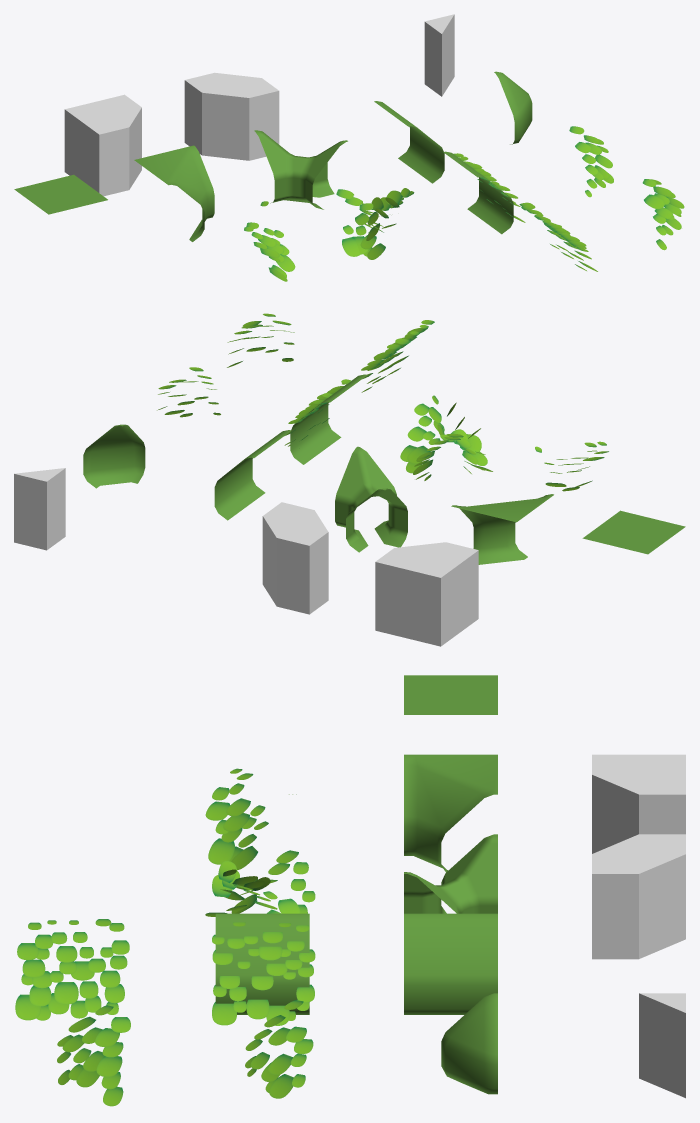
File: HedgeSlopes.fbx
3 renders of one model, top to bottom at view 1: azimuth 30°, elevation 25°; view 2: azimuth 150°, elevation 25°; view 3: azimuth 270°, elevation 25°, orthographic. The views are drawn at different scales.
Visible parts, largest first — view 1: HedgeSlopesTileCol_1010, HedgeSlopesTileCol_1101, HedgeSlopesTile_1010, HedgeSlopesTile_1101, HedgeSlopesDeco_1010_0, HedgeSlopesTileCol_1000, HedgeSlopesTile_1111, HedgeSlopesTile_1001, HedgeSlopesTile_1001.001, HedgeSlopesDeco_1000_1, HedgeSlopesDeco_1101_0, HedgeSlopesDeco_1000_0 (+3 smaller); view 2: HedgeSlopesTileCol_1101, HedgeSlopesTileCol_1010, HedgeSlopesTile_1010, HedgeSlopesTileCol_1000, HedgeSlopesTile_1101, HedgeSlopesTile_1000, HedgeSlopesDeco_1010_0, HedgeSlopesTile_1111, HedgeSlopesTile_1001, HedgeSlopesTile_1001.001, HedgeSlopesDeco_1001_1, HedgeSlopesDeco_1000_1 (+3 smaller); view 3: HedgeSlopesTileCol_1010, HedgeSlopesTile_1001, HedgeSlopesTileCol_1101, HedgeSlopesTile_1101, HedgeSlopesDeco_1001_1, HedgeSlopesTile_1001.001, HedgeSlopesDeco_1001_0, HedgeSlopesTile_1010, HedgeSlopesTileCol_1000, HedgeSlopesTile_1000, HedgeSlopesDeco_1000_1, HedgeSlopesTile_1111 (+3 smaller).
Boxes of the visible parts, x1,y1,x2,y2 form: HedgeSlopesTileCol_1010: [184, 72, 279, 160]; HedgeSlopesTileCol_1101: [64, 94, 141, 196]; HedgeSlopesTile_1010: [254, 130, 347, 209]; HedgeSlopesTile_1101: [134, 145, 214, 241]; HedgeSlopesDeco_1010_0: [336, 188, 414, 259]; HedgeSlopesTileCol_1000: [424, 14, 454, 96]; HedgeSlopesTile_1111: [14, 174, 107, 214]; HedgeSlopesTile_1001: [374, 101, 444, 183]; HedgeSlopesTile_1001.001: [443, 151, 513, 234]; HedgeSlopesDeco_1000_1: [642, 179, 684, 250]; HedgeSlopesDeco_1101_0: [244, 201, 295, 281]; HedgeSlopesDeco_1000_0: [569, 126, 613, 197]; HedgeSlopesTileCol_1101: [375, 542, 478, 646]; HedgeSlopesTileCol_1010: [262, 502, 328, 614]; HedgeSlopesTile_1010: [335, 446, 407, 552]; HedgeSlopesTileCol_1000: [14, 468, 65, 550]; HedgeSlopesTile_1101: [451, 494, 553, 564]; HedgeSlopesTile_1000: [83, 424, 145, 488]; HedgeSlopesDeco_1010_0: [400, 395, 492, 480]; HedgeSlopesTile_1111: [582, 510, 685, 554]; HedgeSlopesTile_1001: [214, 430, 291, 520]; HedgeSlopesTile_1001.001: [290, 374, 367, 464]; HedgeSlopesDeco_1001_1: [361, 320, 434, 392]; HedgeSlopesDeco_1000_1: [227, 313, 294, 367]; HedgeSlopesTileCol_1010: [592, 834, 685, 959]; HedgeSlopesTile_1001: [404, 913, 497, 1014]; HedgeSlopesTileCol_1101: [592, 754, 685, 853]; HedgeSlopesTile_1101: [404, 754, 497, 872]; HedgeSlopesDeco_1001_1: [15, 919, 129, 1020]; HedgeSlopesTile_1001.001: [215, 913, 309, 1014]; HedgeSlopesDeco_1001_0: [212, 922, 315, 1025]; HedgeSlopesTile_1010: [404, 834, 497, 913]; HedgeSlopesTileCol_1000: [639, 993, 685, 1098]; HedgeSlopesTile_1000: [441, 993, 497, 1094]; HedgeSlopesDeco_1000_1: [57, 1005, 130, 1106]; HedgeSlopesTile_1111: [404, 675, 497, 714].
Bounding box in the file's own units: 8.83 × 1.03 × 7.15.
2 materials, 1 textured.
